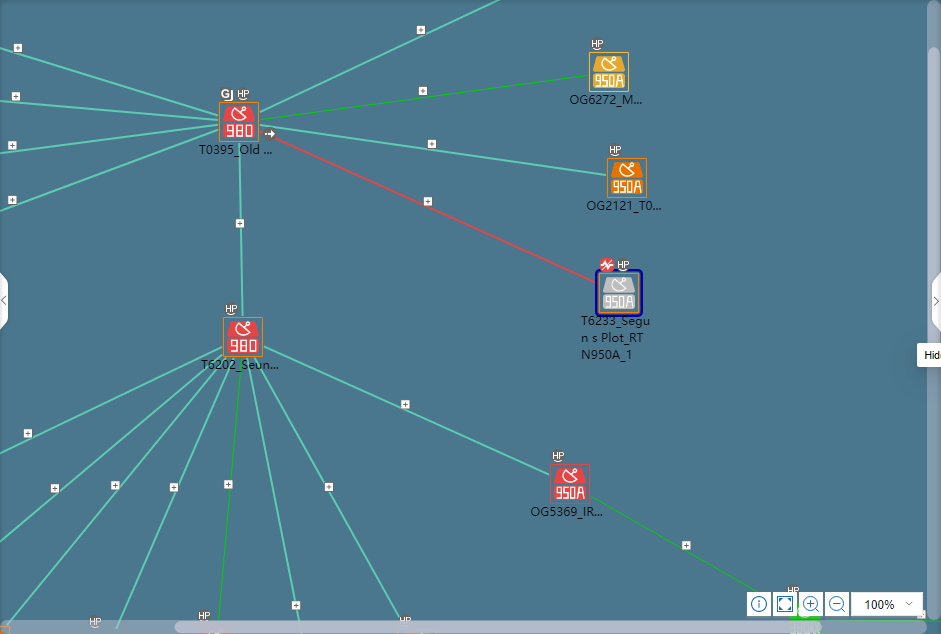Link_Blue: (7, 358, 227, 625), (0, 353, 222, 545), (253, 358, 401, 619), (264, 345, 549, 477), (114, 359, 235, 631), (260, 1, 500, 115), (0, 345, 222, 456), (259, 123, 605, 179), (0, 129, 218, 213), (0, 46, 217, 117), (246, 359, 301, 621), (0, 123, 218, 155), (0, 99, 218, 122), (237, 143, 244, 316)
Link_Green: (591, 495, 760, 592), (260, 73, 589, 121), (217, 359, 244, 620)
Link_Red: (260, 129, 594, 285)
RTN_Gray: (601, 276, 635, 310)
RTN_Orange: (608, 161, 643, 194)
RTN_Red: (225, 319, 259, 356), (553, 468, 587, 502), (222, 105, 254, 138)
RTN_Yellow: (591, 55, 626, 90)
